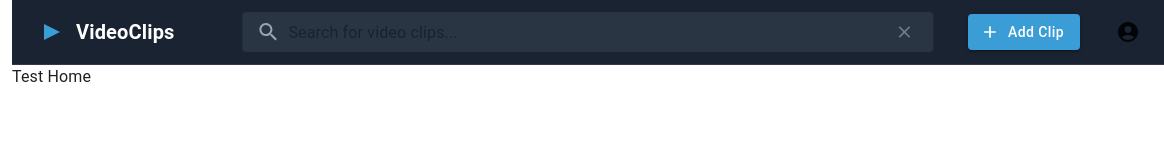
App › clear button clears the search input and focuses it
Type into the input
Type "hello" into the field with placeholder "Search for video clips..." at {"x": 585, "y": 32}, box [288,12,882,52]
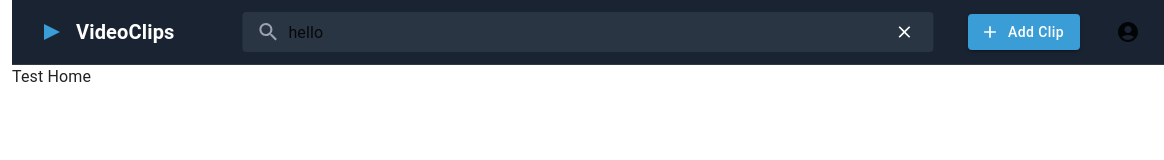
Click the clear button
Click the button named "clear search" at {"x": 905, "y": 32}, box [890,17,920,47]
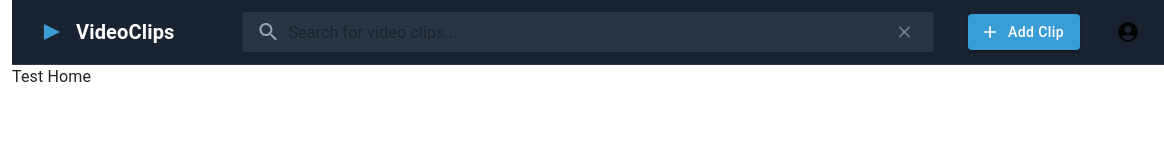
Check: the field with placeholder "Search for video clips..." is empty, box [288,12,882,52]
